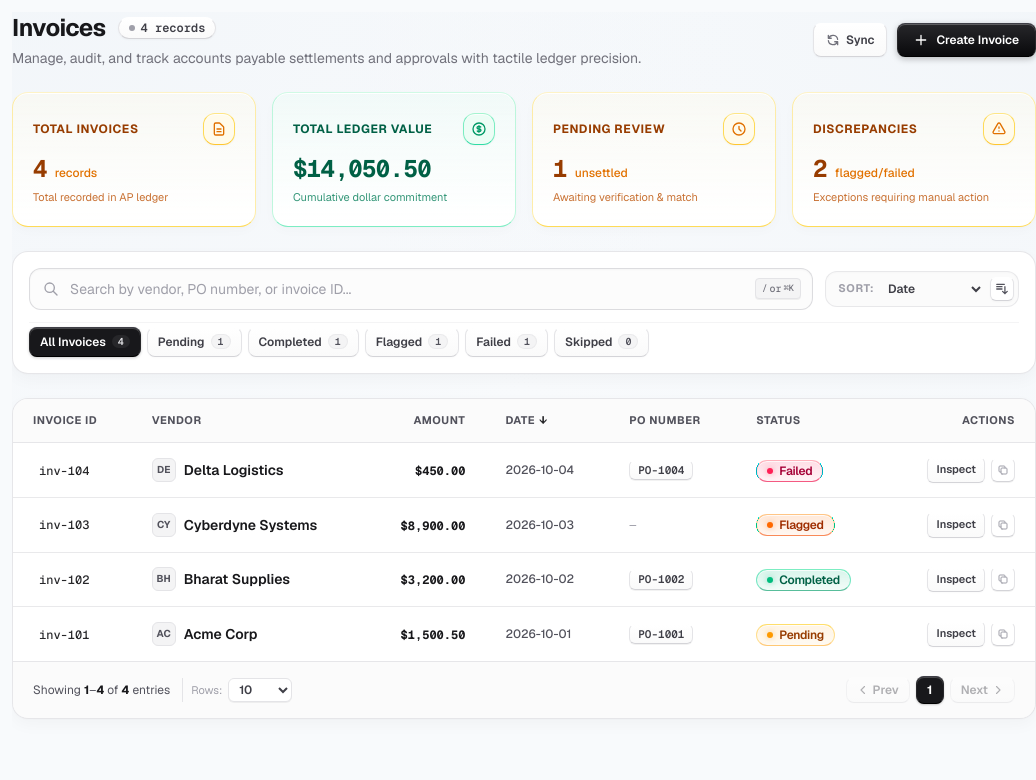
Scenario: InvoicesPage Component › filters invoices by status filter pills
Check: the text "Acme Corp" is shown, box x1=184 y1=624 x2=258 y2=644
Click Pending filter pill
Click the button "Pending 1" at (194, 342), box x1=147 y1=326 x2=242 y2=356
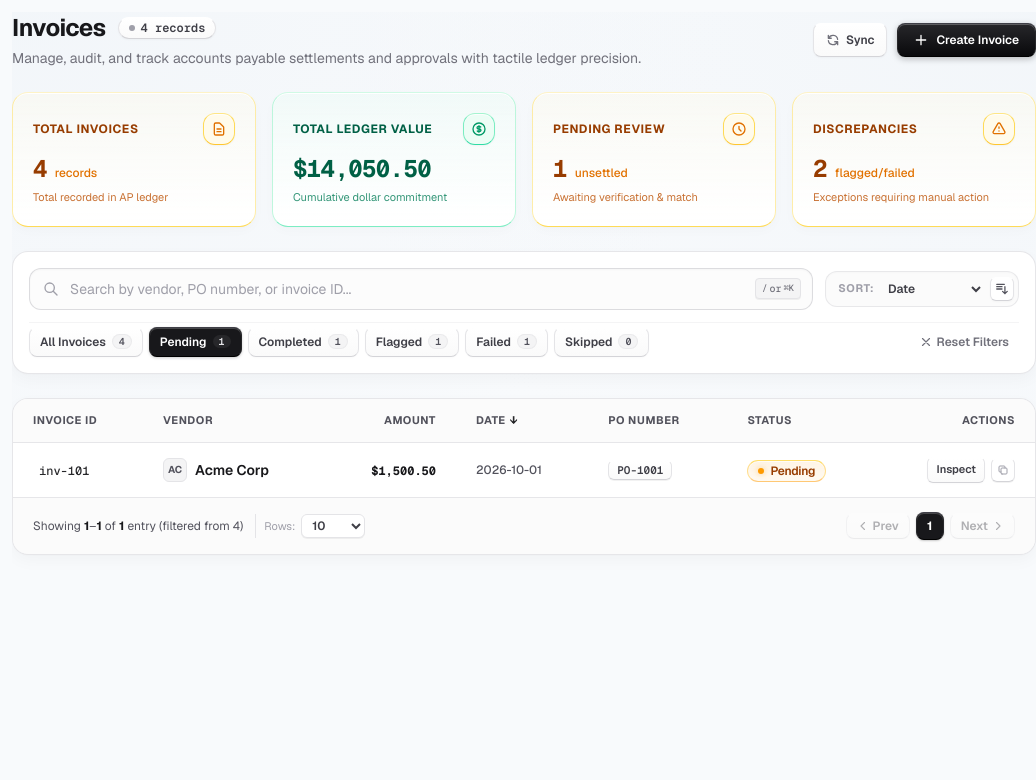
Check: the text "Acme Corp" is shown, box x1=195 y1=460 x2=269 y2=480
Check: the text "Bharat Supplies" is gone
Check: the text "Cyberdyne Systems" is gone
